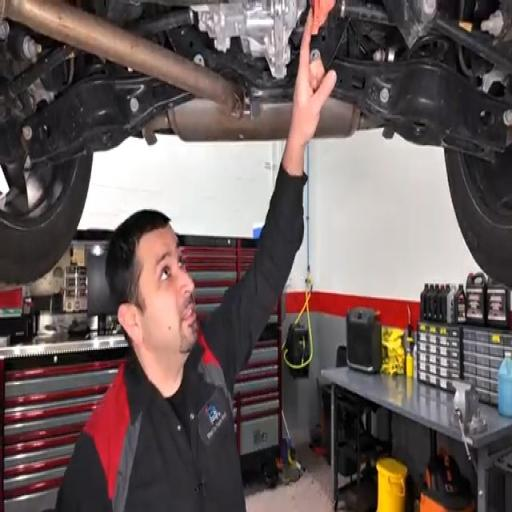exhaust: (0, 0, 243, 115), (144, 100, 292, 143)
tire: (0, 154, 92, 285)
wheel: (0, 154, 92, 284), (445, 147, 511, 285)
